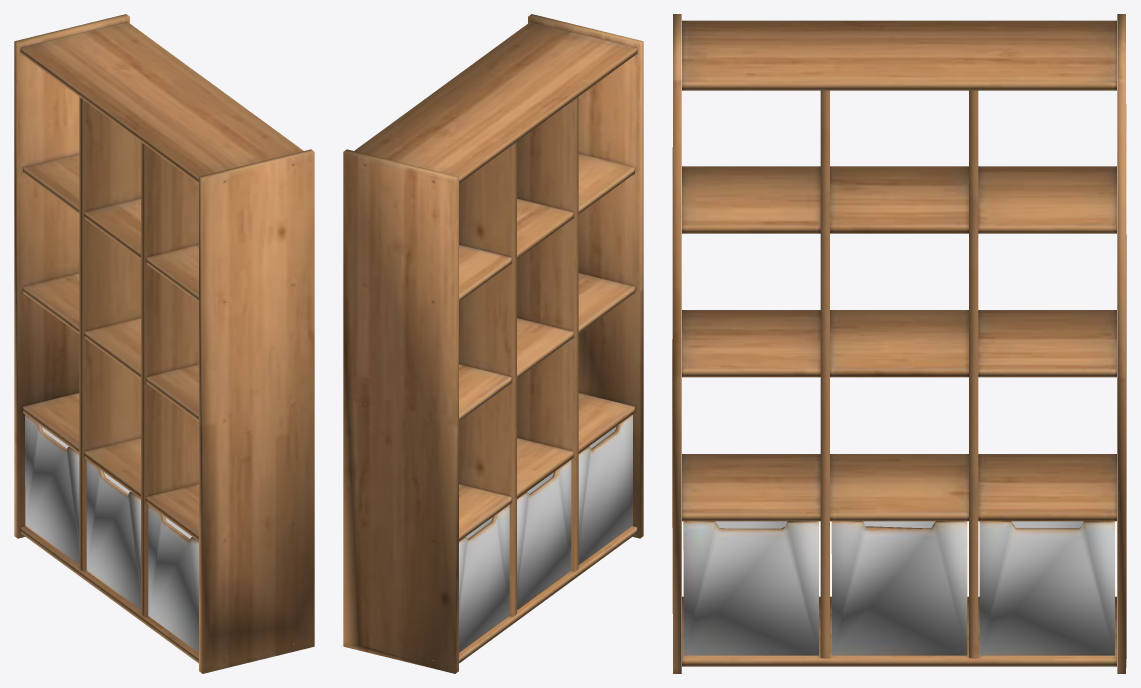
File: wooden_display_shelves_01.glb
The picture shows the model from 3 angles, left to right: view 1: azimuth 30°, elevation 25°; view 2: azimuth 150°, elevation 25°; view 3: azimuth 270°, elevation 25°; orthographic projection. The views are drawn at different scales.
Visible parts, largest first — view 1: wooden_display_shelves_01; view 2: wooden_display_shelves_01; view 3: wooden_display_shelves_01.
Part boxes in pixels (bbox=[...]): wooden_display_shelves_01: bbox=[14, 14, 314, 673]; wooden_display_shelves_01: bbox=[343, 14, 643, 673]; wooden_display_shelves_01: bbox=[672, 14, 1126, 673].
Bounding box in the file's own units: 0.368 × 1.55 × 1.08.
1 material, 1 textured.
